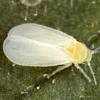Tobacco Whitefly: (3, 22, 97, 88)
